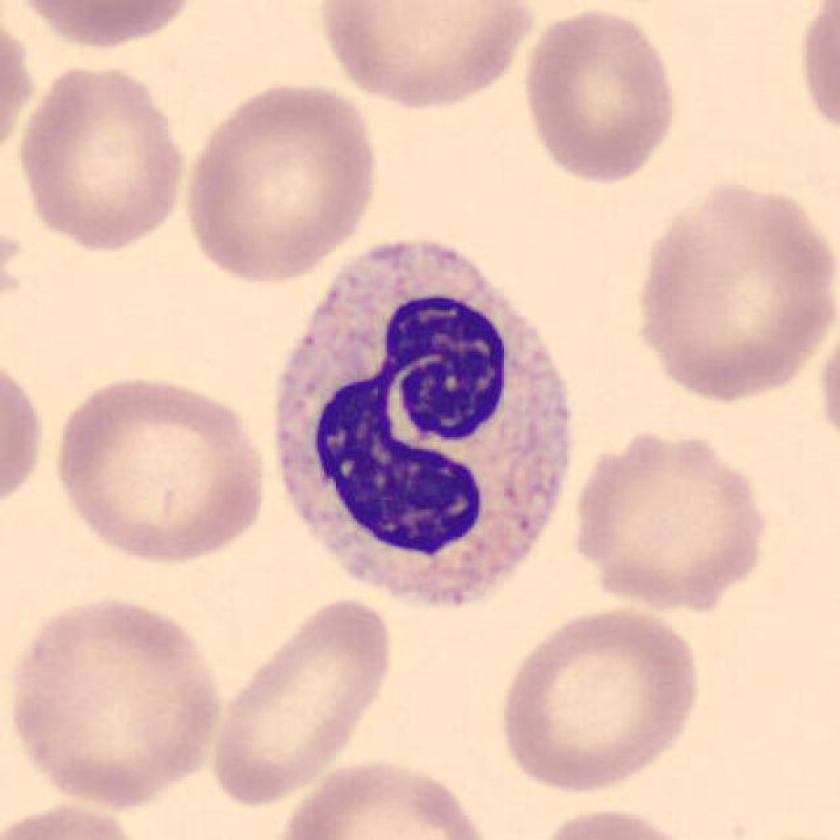neutrophil: (278, 243, 568, 602)
